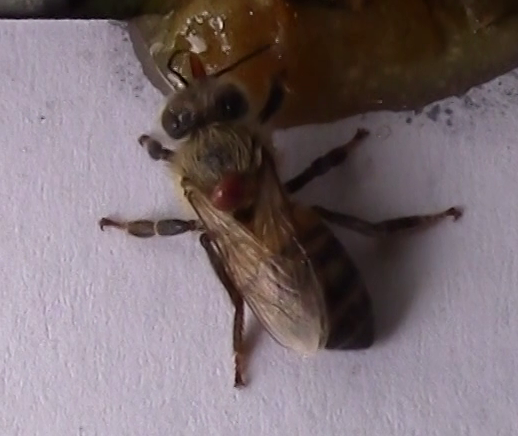Varroa destructor: (206, 169, 250, 213)
